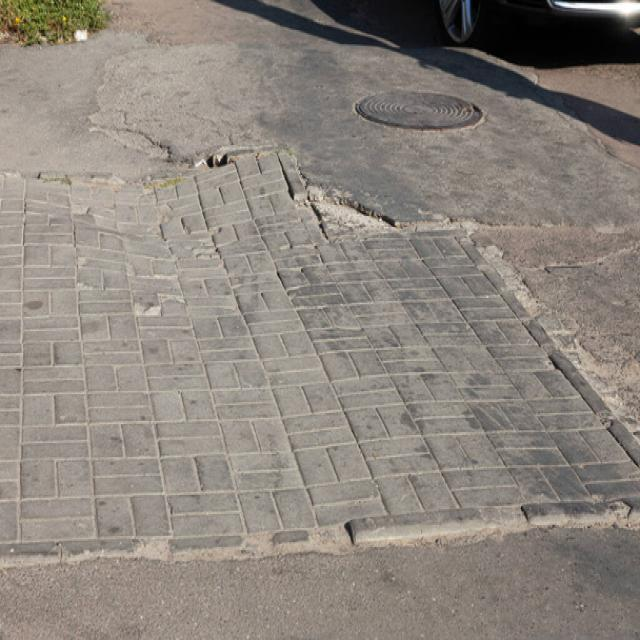hole: (293, 124, 423, 260)
